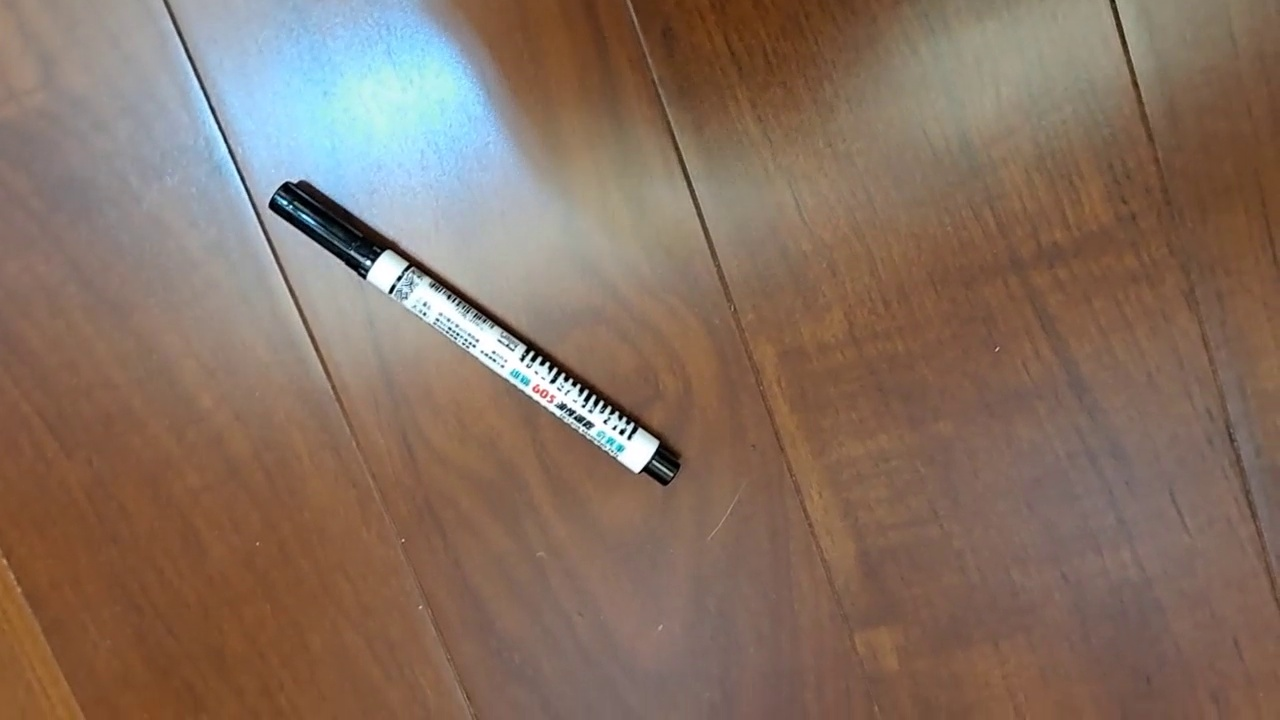pen: (268, 180, 682, 487)
